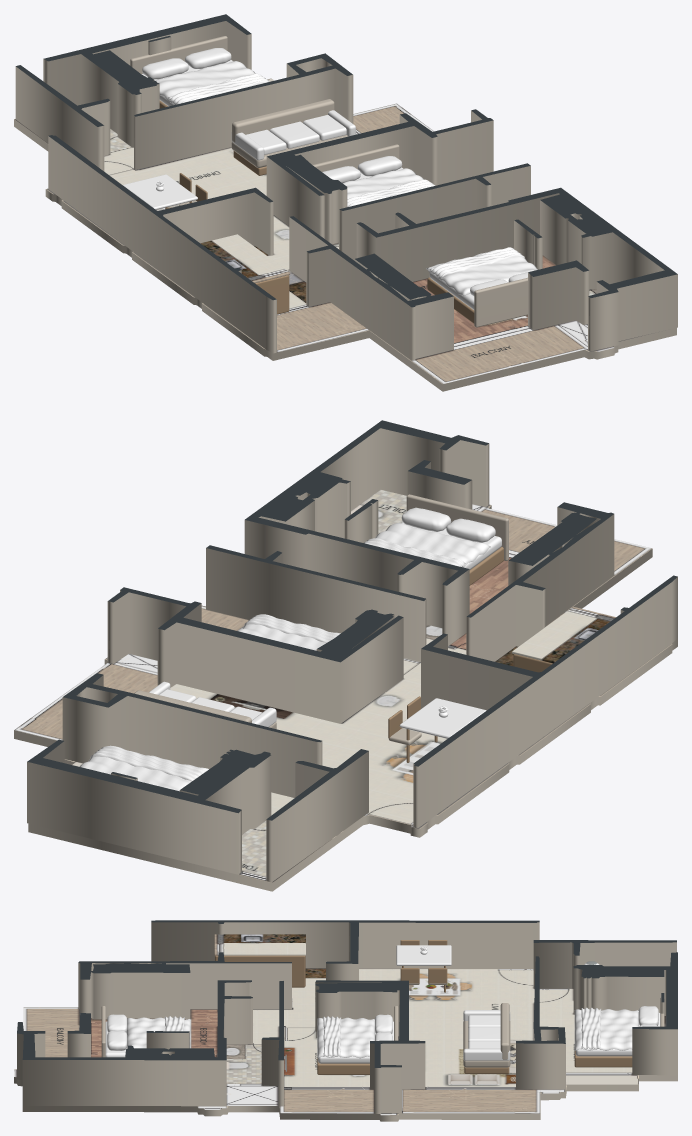
The picture shows the model from 3 angles, top to bottom: view 1: azimuth 30°, elevation 25°; view 2: azimuth 150°, elevation 25°; view 3: azimuth 270°, elevation 25°; orthographic projection. The views are drawn at different scales.
Visible parts, largest first — view 1: Partition walls, Apartment floor, Upholstered headboard.002, Stone worktop, Draped bed linen.004, Draped bed linen, Sofa back, Marble dining top, Draped bed linen.002, Upholstered headboard, Draped bed linen.001, Draped bed linen.005 (+9 smaller); view 2: Partition walls, Apartment floor, Stone worktop, Draped bed linen.004, Marble dining top, Draped bed linen, Upholstered headboard.002, Draped bed linen.001, Draped bed linen.003, Draped bed linen.002, Tailored pillow.004, Tailored pillow.005 (+1 smaller); view 3: Partition walls, Apartment floor, Stone worktop, Draped bed linen, Draped bed linen.002, Marble dining top, Draped bed linen.004, Kitchen cabinets, Draped bed linen.001, Walnut upholstered base, Draped bed linen.003, Walnut upholstered base.001 (+12 smaller).
Boxes of the visible parts, left/top/right/bottom form: Partition walls: left=15, top=14, right=677, bottom=360; Apartment floor: left=14, top=78, right=676, bottom=391; Upholstered headboard.002: left=474, top=277, right=527, bottom=327; Stone worktop: left=200, top=234, right=290, bottom=283; Draped bed linen.004: left=426, top=250, right=537, bottom=295; Draped bed linen: left=155, top=61, right=263, bottom=103; Sofa back: left=232, top=99, right=334, bottom=142; Marble dining top: left=123, top=174, right=197, bottom=209; Draped bed linen.002: left=343, top=168, right=423, bottom=202; Upholstered headboard: left=130, top=36, right=227, bottom=73; Draped bed linen.001: left=168, top=73, right=269, bottom=104; Draped bed linen.005: left=429, top=247, right=524, bottom=278; Partition walls: left=27, top=420, right=677, bottom=882; Apartment floor: left=14, top=489, right=677, bottom=891; Stone worktop: left=512, top=606, right=615, bottom=663; Draped bed linen.004: left=375, top=523, right=490, bottom=567; Marble dining top: left=399, top=698, right=486, bottom=738; Draped bed linen: left=79, top=746, right=208, bottom=791; Upholstered headboard.002: left=406, top=494, right=508, bottom=560; Draped bed linen.001: left=90, top=745, right=206, bottom=781; Draped bed linen.003: left=244, top=614, right=339, bottom=642; Draped bed linen.002: left=237, top=616, right=340, bottom=650; Tailored pillow.004: left=446, top=518, right=495, bottom=542; Tailored pillow.005: left=401, top=507, right=451, bottom=531; Partition walls: left=17, top=920, right=677, bottom=1113; Apartment floor: left=14, top=968, right=677, bottom=1121; Stone worktop: left=214, top=934, right=305, bottom=955; Draped bed linen: left=574, top=1009, right=639, bottom=1050; Draped bed linen.002: left=317, top=1017, right=375, bottom=1058; Marble dining top: left=396, top=945, right=451, bottom=965; Draped bed linen.004: left=126, top=1017, right=191, bottom=1048; Kitchen cabinets: left=215, top=955, right=305, bottom=987; Draped bed linen.001: left=581, top=1007, right=601, bottom=1049; Walnut upholstered base: left=574, top=1051, right=632, bottom=1067; Draped bed linen.003: left=323, top=1016, right=341, bottom=1057; Walnut upholstered base.001: left=317, top=1058, right=369, bottom=1074.
Bounding box in the file's own units: 7.96 × 1.3 × 14.94.
10 materials, 1 textured.
